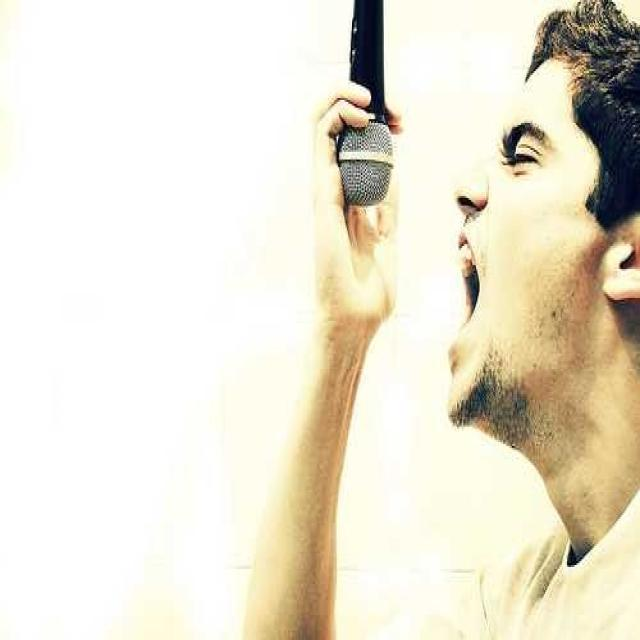microphone: (336, 0, 396, 212)
